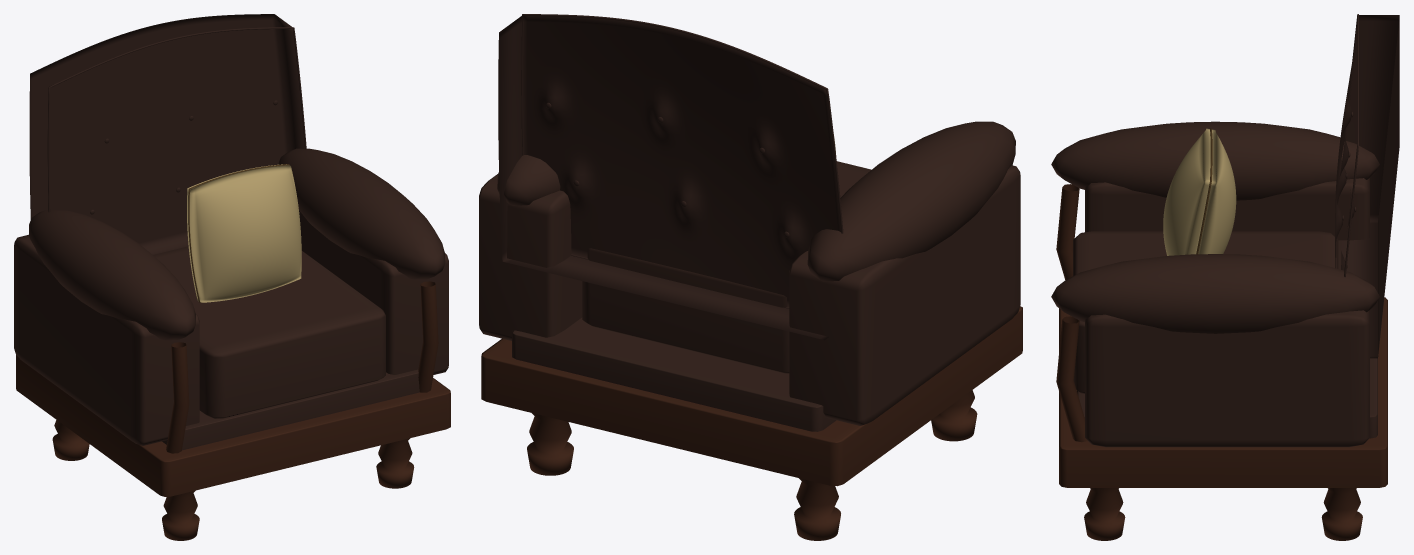
Rendered from Armchair_Leather.fbx.
3 views of the same model, side by side, from view 1: azimuth 30°, elevation 25°; view 2: azimuth 150°, elevation 25°; view 3: azimuth 270°, elevation 25° (orthographic). The views are drawn at different scales.
Visible parts, largest first — view 1: Continuous tufted leather back.002, Separate seat pad.004, Leather arm body.004, Carved sofa apron.002, Separate brocade cushion.003, Leather arm roll.004, Leather arm roll.005, Leather arm body.005, Upholstered seat support.002, Arm front wood trim.004, Arm front wood trim.005, Turned leg.038 (+3 smaller); view 2: Continuous tufted leather back.002, Leather arm body.004, Carved sofa apron.002, Leather arm roll.004, Upholstered seat support.002, Leather arm body.005, Separate seat pad.004, Turned leg.039, Turned leg.041, Leather arm roll.005, Back welt seam.002, Turned leg.038; view 3: Leather arm body.005, Leather arm roll.005, Leather arm roll.004, Carved sofa apron.002, Continuous tufted leather back.002, Leather arm body.004, Separate brocade cushion.003, Separate seat pad.004, Arm front wood trim.005, Turned leg.040, Turned leg.041, Arm front wood trim.004 (+2 smaller).
Part boxes in pixels (x1,y1,x2,y2): Continuous tufted leather back.002: [29, 14, 304, 254]; Separate seat pad.004: [153, 246, 385, 418]; Leather arm body.004: [14, 234, 199, 445]; Carved sofa apron.002: [16, 355, 450, 496]; Separate brocade cushion.003: [187, 164, 301, 302]; Leather arm roll.004: [29, 209, 195, 340]; Leather arm roll.005: [278, 148, 445, 279]; Leather arm body.005: [299, 210, 448, 374]; Upholstered seat support.002: [162, 369, 419, 450]; Arm front wood trim.004: [166, 342, 189, 453]; Arm front wood trim.005: [418, 281, 438, 392]; Turned leg.038: [162, 490, 199, 540]; Continuous tufted leather back.002: [498, 15, 840, 340]; Leather arm body.004: [789, 165, 1020, 425]; Carved sofa apron.002: [481, 306, 1022, 486]; Leather arm roll.004: [807, 121, 1015, 281]; Upholstered seat support.002: [512, 317, 835, 431]; Leather arm body.005: [479, 174, 582, 340]; Separate seat pad.004: [582, 161, 871, 373]; Turned leg.039: [794, 478, 840, 540]; Turned leg.041: [527, 413, 573, 475]; Leather arm roll.005: [497, 155, 560, 205]; Back welt seam.002: [521, 14, 843, 308]; Turned leg.038: [931, 390, 977, 441]; Leather arm body.005: [1085, 310, 1369, 447]; Leather arm roll.005: [1051, 254, 1379, 333]; Leather arm roll.004: [1051, 121, 1379, 200]; Carved sofa apron.002: [1059, 297, 1387, 487]; Continuous tufted leather back.002: [1335, 15, 1399, 358]; Leather arm body.004: [1085, 178, 1369, 240]; Separate brocade cushion.003: [1163, 128, 1236, 255]; Separate seat pad.004: [1073, 231, 1338, 393]; Arm front wood trim.005: [1056, 316, 1087, 442]; Turned leg.040: [1084, 488, 1125, 540]; Turned leg.041: [1321, 488, 1362, 540]; Arm front wood trim.004: [1056, 184, 1079, 280].
Bounding box in the file's own units: 1.03 × 1.16 × 0.88.
